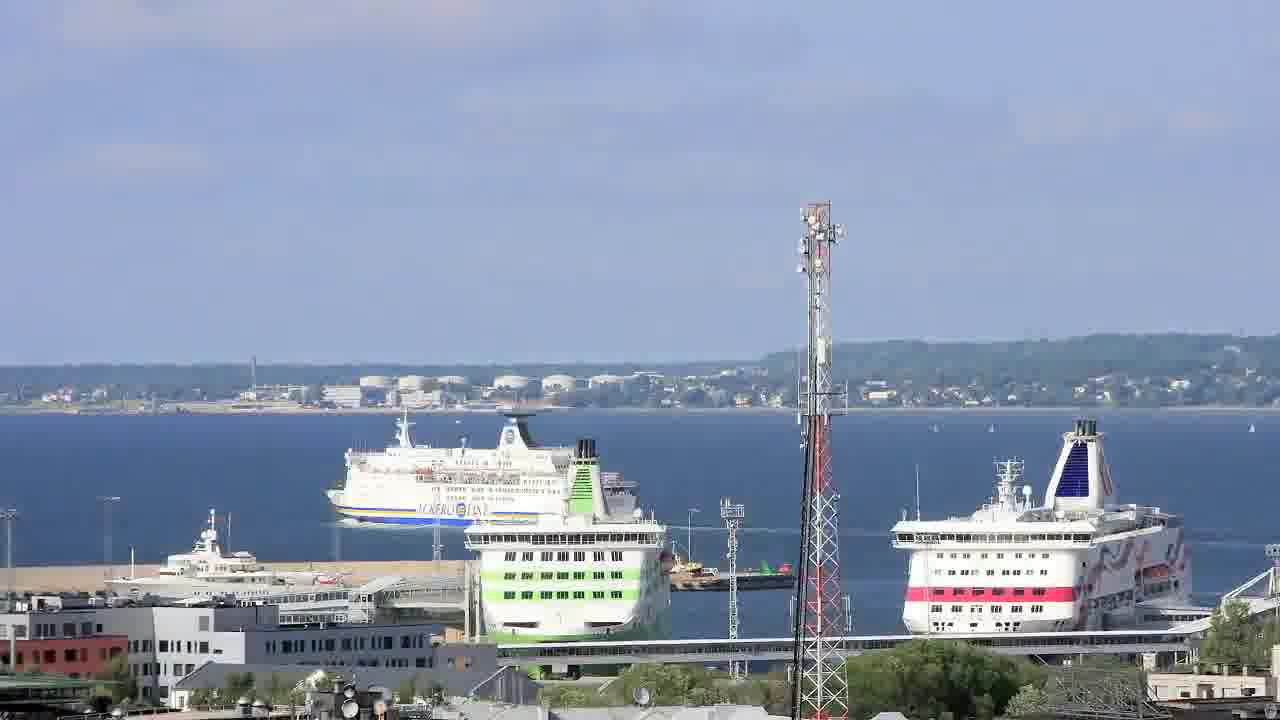type-3: (868, 415, 1225, 638), (436, 434, 694, 670), (320, 388, 654, 544), (80, 509, 335, 610)
